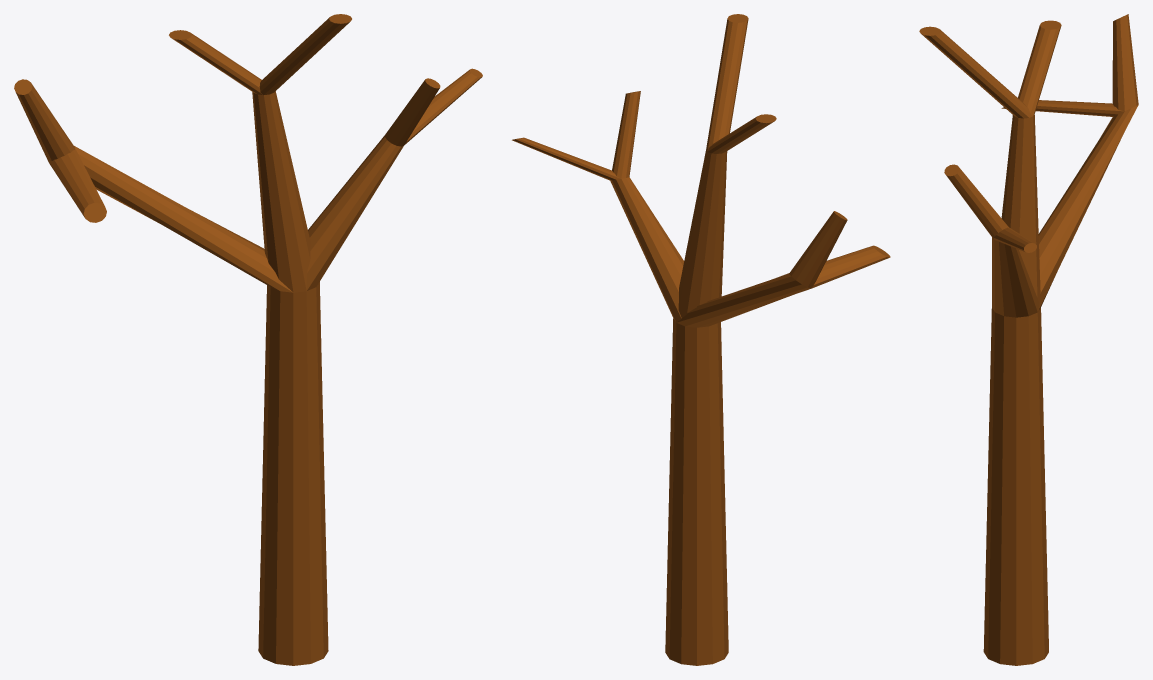
Rendered from Tree_30.fbx.
3 renders of one model, left to right at view 1: azimuth 30°, elevation 25°; view 2: azimuth 150°, elevation 25°; view 3: azimuth 270°, elevation 25°, orthographic. The views are drawn at different scales.
Parts seen in each view (by area): view 1: Tree_30; view 2: Tree_30; view 3: Tree_30.
Boxes of the visible parts, bbox=[...] form: Tree_30: bbox=[14, 14, 482, 665]; Tree_30: bbox=[512, 14, 890, 665]; Tree_30: bbox=[919, 14, 1138, 665].
Bounding box in the file's own units: 1378 × 2097 × 671.
